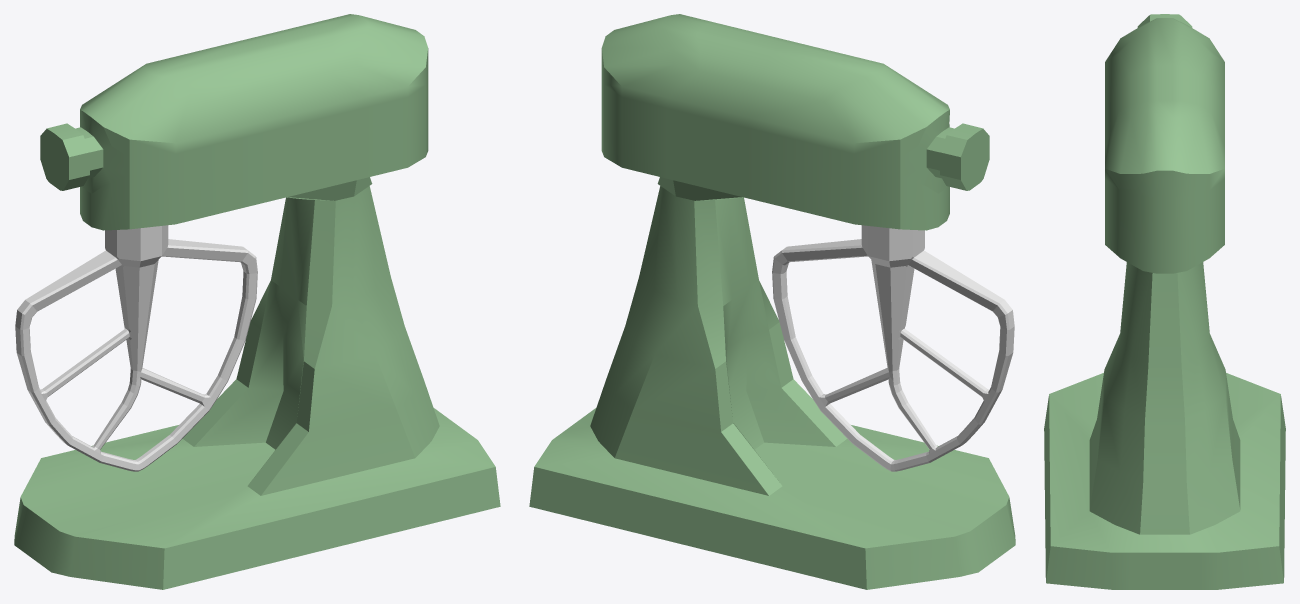
Rendered from StandMIxer2.fbx.
3 views of the same model, side by side, from view 1: azimuth 30°, elevation 25°; view 2: azimuth 150°, elevation 25°; view 3: azimuth 270°, elevation 25° (orthographic). The views are drawn at different scales.
Visible parts, largest first — view 1: MixerBase, MixerTop, MixerAttatchment, MixerTop.001, MixerTop.003; view 2: MixerBase, MixerTop, MixerAttatchment, MixerTop.001, MixerTop.003; view 3: MixerBase, MixerTop, MixerTop.001.
Part boxes in pixels (box(x1,y1,x2,y2)): MixerBase: box(14, 186, 500, 589); MixerTop: box(80, 14, 428, 230); MixerAttatchment: box(15, 225, 257, 471); MixerTop.001: box(80, 73, 428, 193); MixerTop.003: box(40, 123, 103, 190); MixerBase: box(529, 186, 1015, 589); MixerTop: box(601, 14, 949, 230); MixerAttatchment: box(772, 225, 1014, 471); MixerTop.001: box(601, 73, 949, 193); MixerTop.003: box(926, 123, 989, 190); MixerBase: box(1044, 262, 1285, 589); MixerTop: box(1105, 18, 1224, 273); MixerTop.001: box(1105, 179, 1224, 215).
Bounding box in the file's own units: 94.08 × 95.3 × 48.36.
